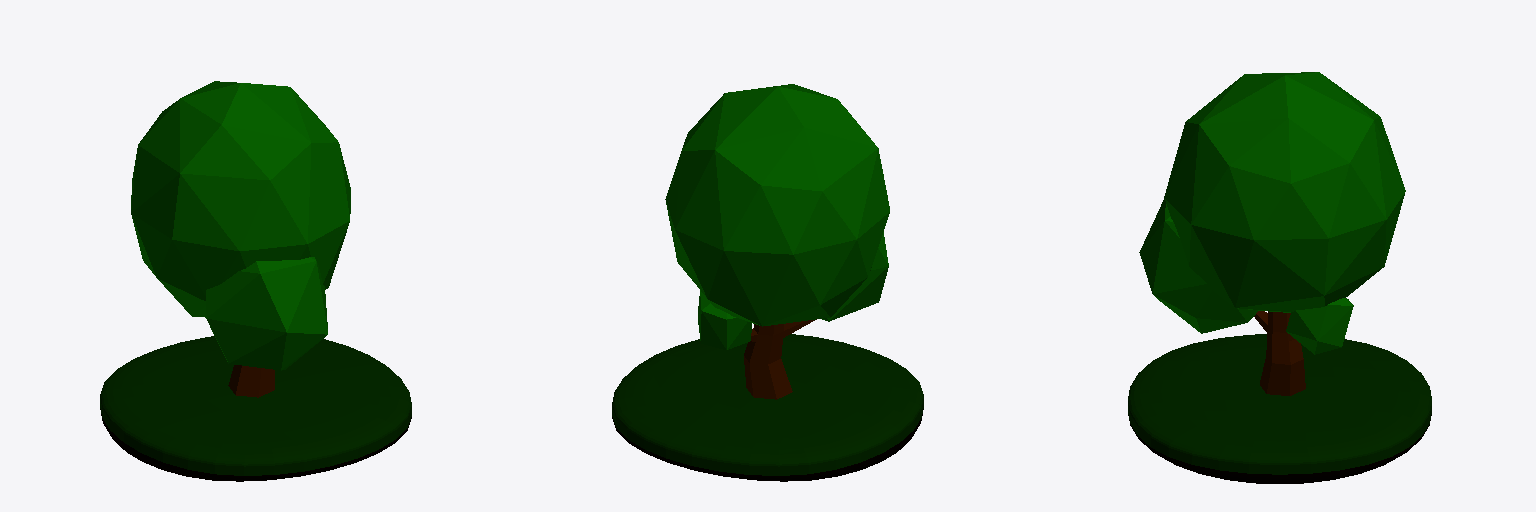
Rendered from tree.obj.
The picture shows the model from 3 angles: view 1: azimuth 30°, elevation 25°; view 2: azimuth 150°, elevation 25°; view 3: azimuth 270°, elevation 25°; orthographic projection.
Parts seen in each view (by area): view 1: Icosphere.001_Icosphere.010, Plane, Cylinder_Cylinder.005; view 2: Icosphere.001_Icosphere.010, Plane, Cylinder_Cylinder.005; view 3: Icosphere.001_Icosphere.010, Plane, Cylinder_Cylinder.005.
Part boxes in pixels (x1,y1,x2,y2): Icosphere.001_Icosphere.010: (131,81,350,370); Plane: (100,336,411,481); Cylinder_Cylinder.005: (228,365,274,397); Icosphere.001_Icosphere.010: (665,84,889,349); Plane: (612,334,923,481); Cylinder_Cylinder.005: (744,319,816,399); Icosphere.001_Icosphere.010: (1139,72,1405,354); Plane: (1128,334,1431,483); Cylinder_Cylinder.005: (1254,311,1305,395).
Bounding box in the file's own units: 11.68 × 14.71 × 11.65.